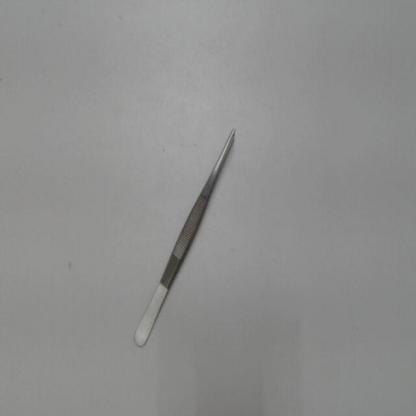Gillies Toothed Dissector: (122, 115, 247, 359)
